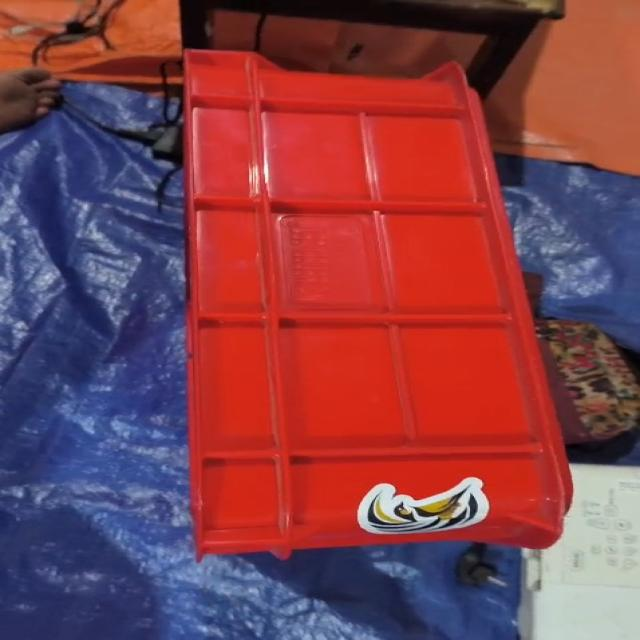red plastic box: (182, 49, 573, 562)
